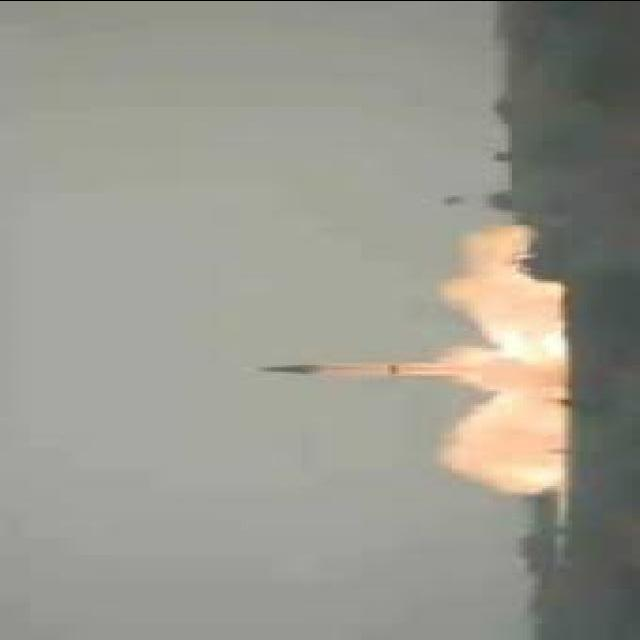missile: (255, 363, 466, 377)
